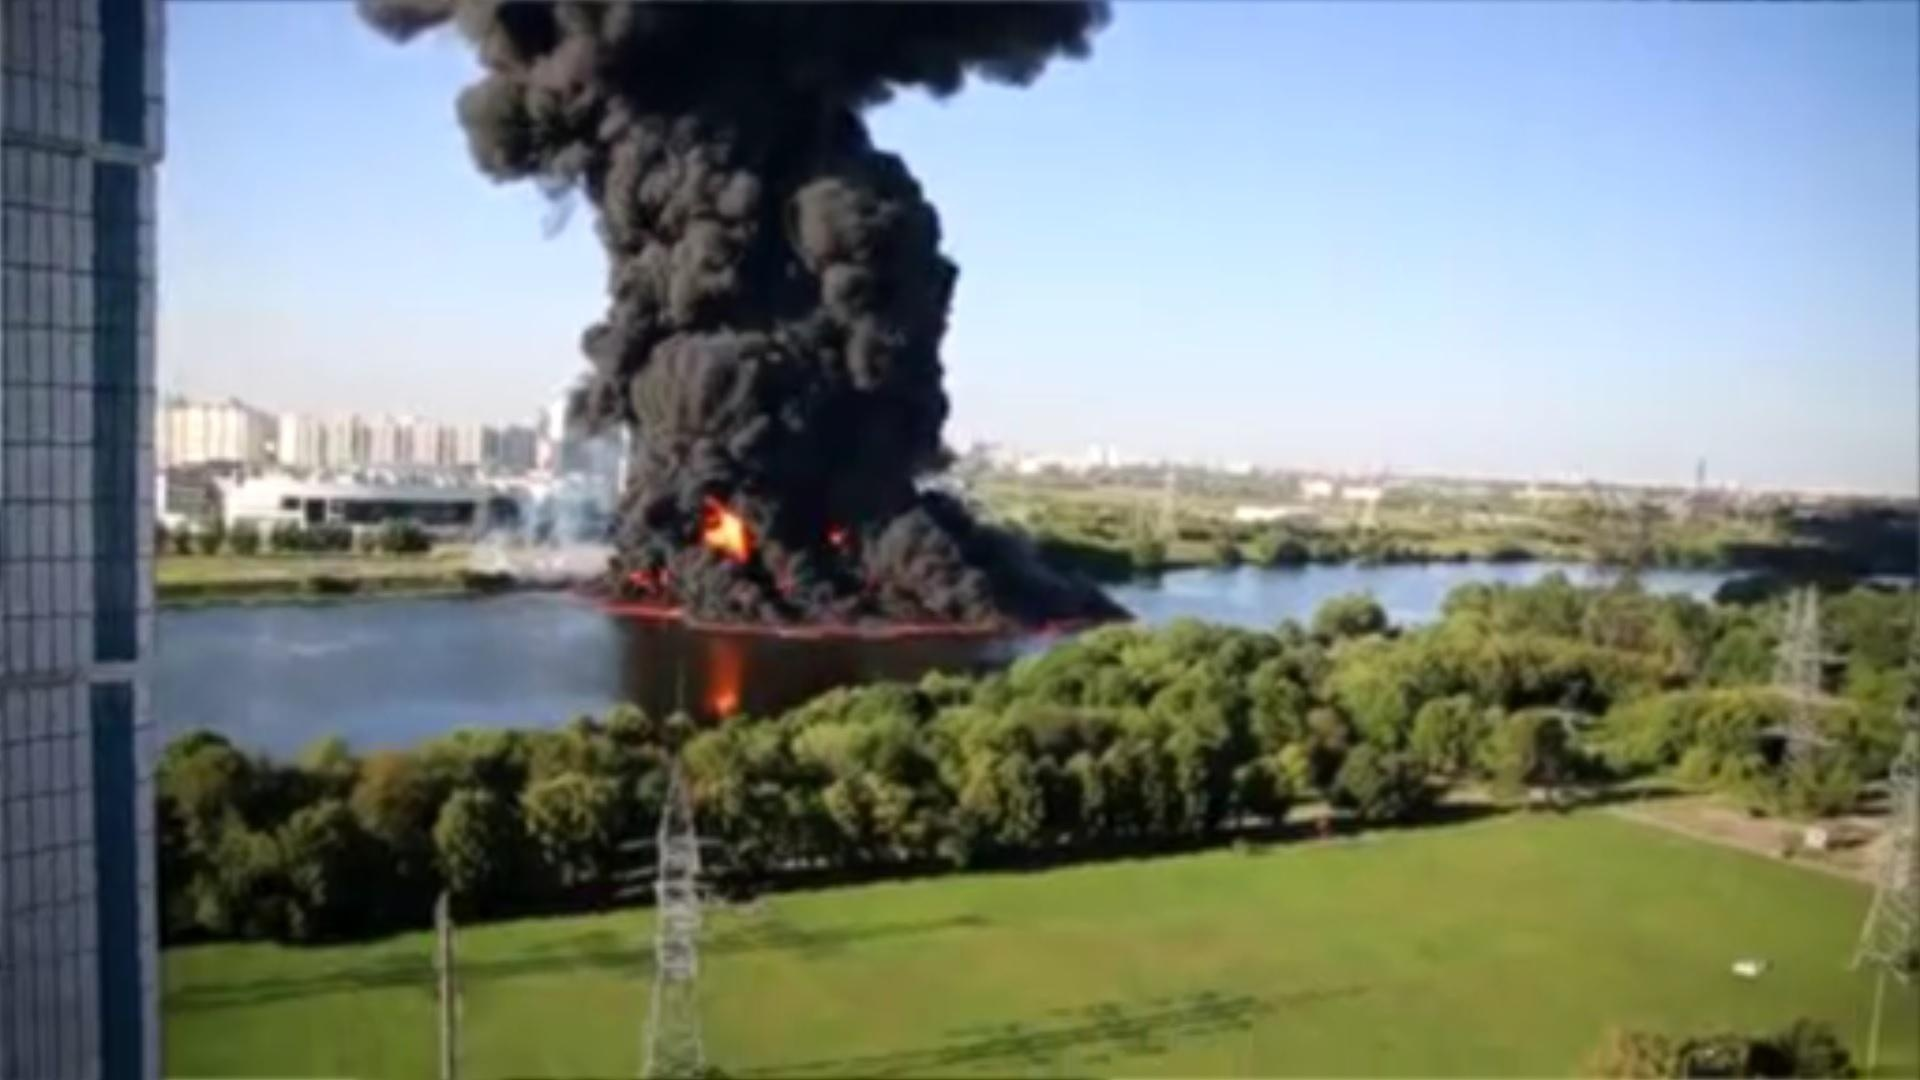fire: (699, 498, 752, 560)
